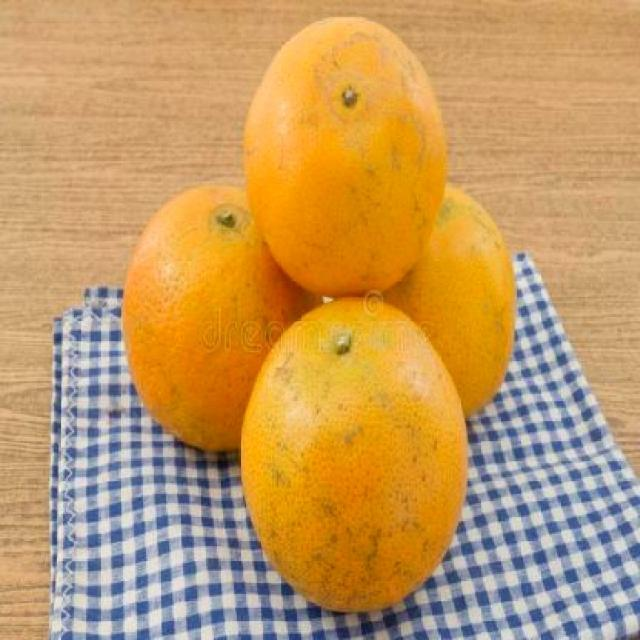Jeruk Sudah Matang: (237, 296, 468, 615), (121, 178, 326, 464), (242, 16, 448, 299), (328, 178, 518, 426)
